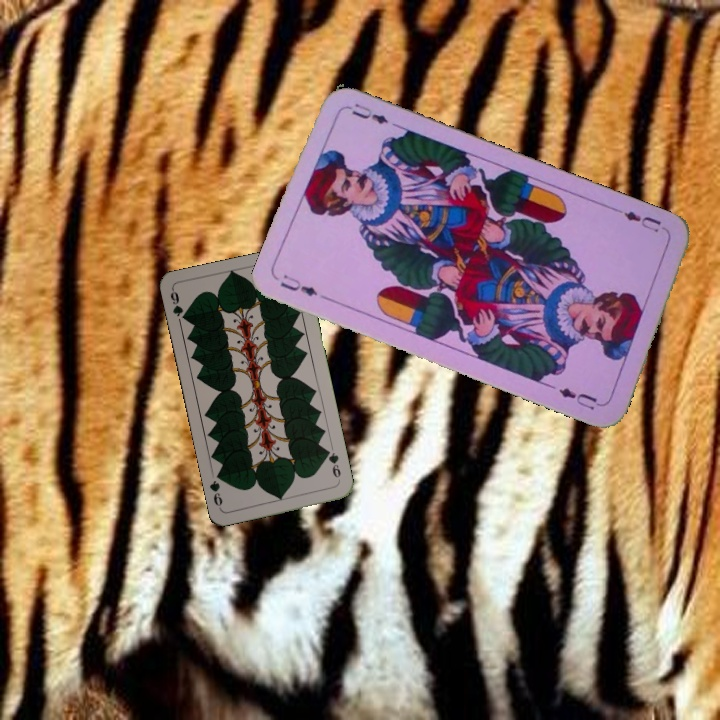EU: (619, 207, 670, 235), (276, 270, 320, 299)
G9: (166, 286, 190, 324), (322, 445, 343, 480)
